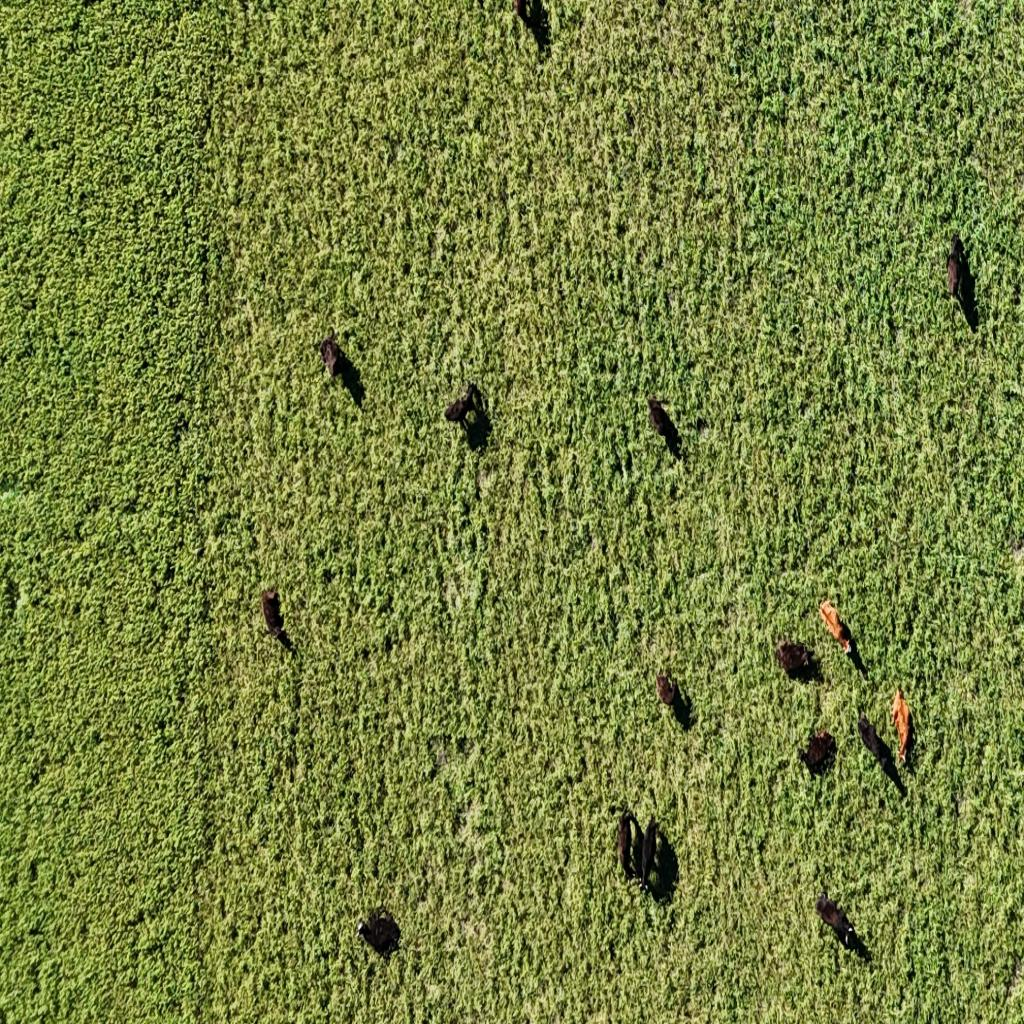cow: (816, 892, 860, 950), (356, 909, 400, 958), (444, 382, 486, 432), (818, 598, 853, 658), (856, 710, 891, 768), (890, 688, 914, 766), (647, 397, 679, 452), (798, 730, 836, 776), (942, 238, 968, 305), (617, 809, 639, 882), (261, 588, 287, 645), (775, 638, 812, 678), (641, 818, 658, 890), (320, 336, 342, 378), (656, 671, 678, 709), (510, 0, 533, 29)
